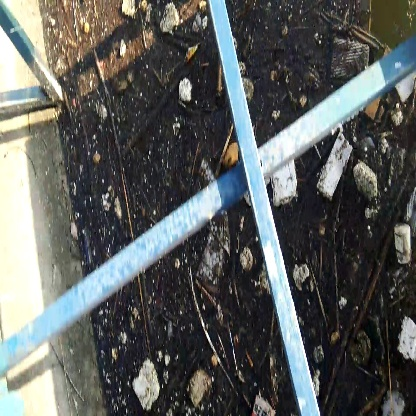milk-box: (319, 131, 353, 205)
